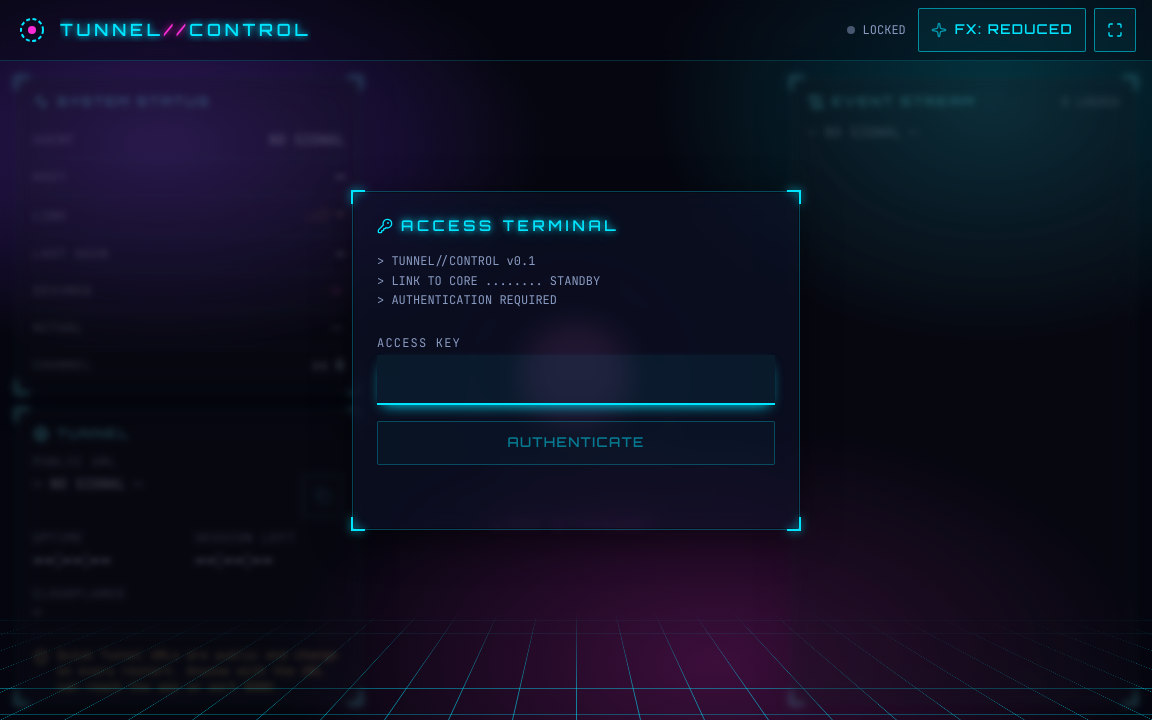
Test: single page: lock, unlock, control › a wrong password shows ACCESS DENIED and stays locked
Type "nope" into the password field labelled "Access key". click: (576, 379)
box: [377, 354, 775, 404]
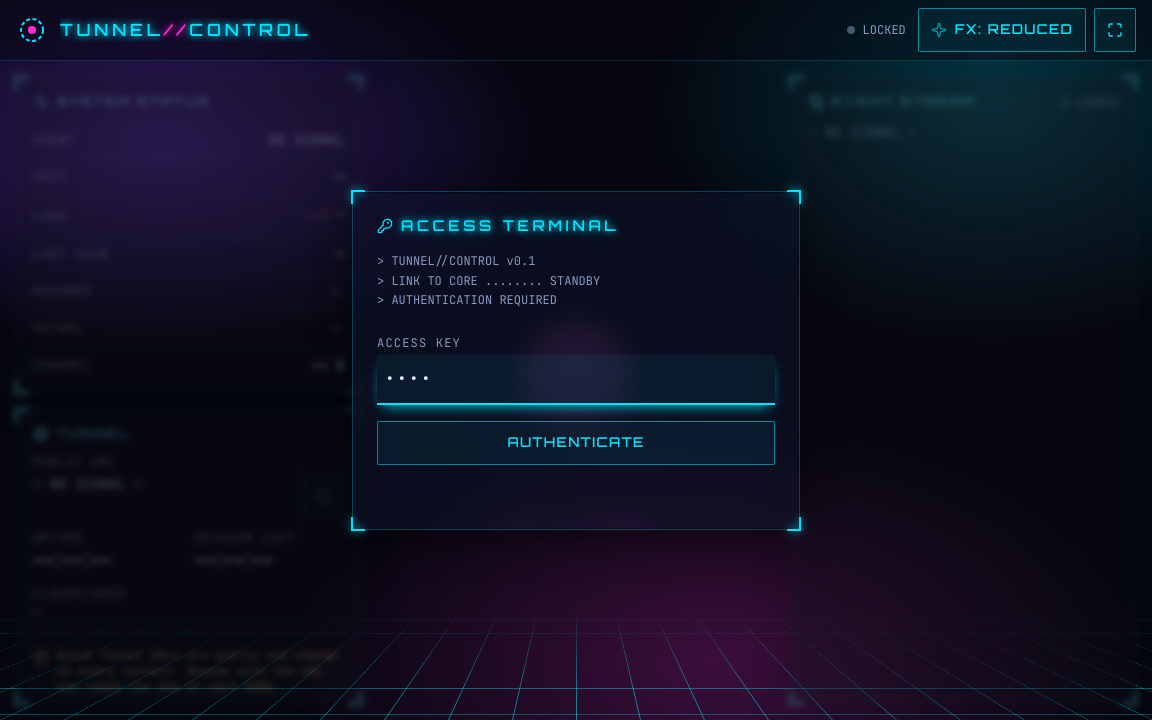
Click the button "Authenticate". click: (576, 442)
box: [377, 420, 775, 464]
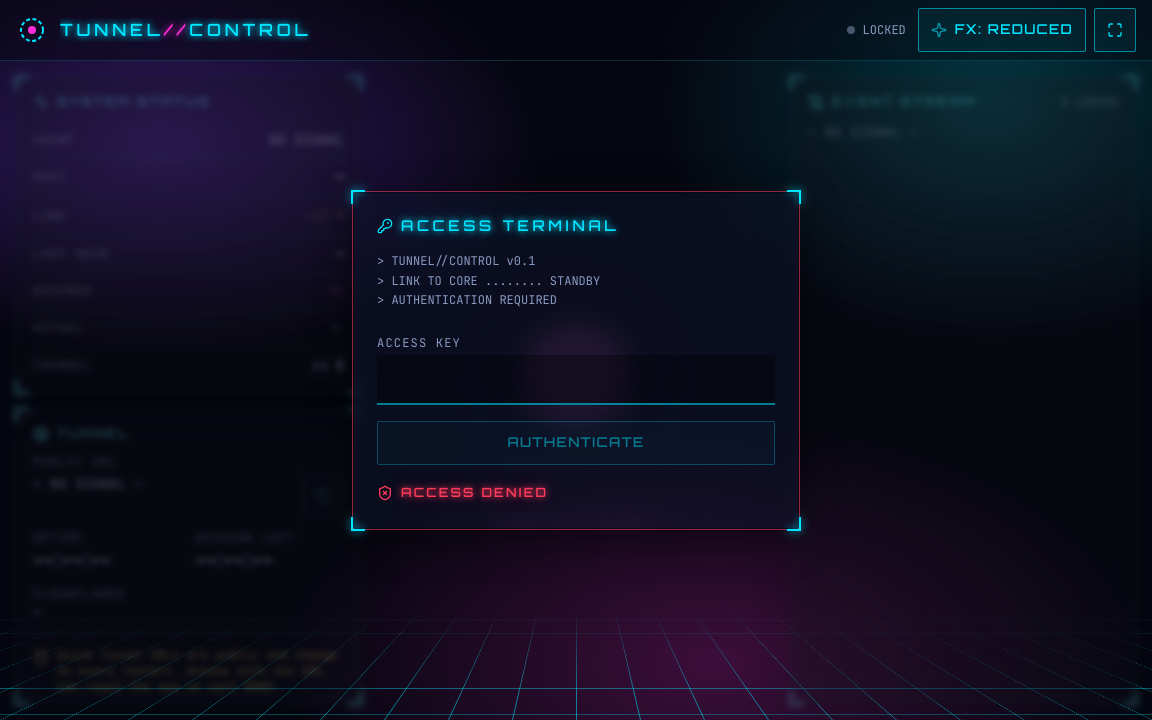
Expected: the heading "ACCESS TERMINAL" is shown, [377, 217, 619, 234]
Expected: the text "ACCESS DENIED" is shown, [377, 484, 548, 500]
